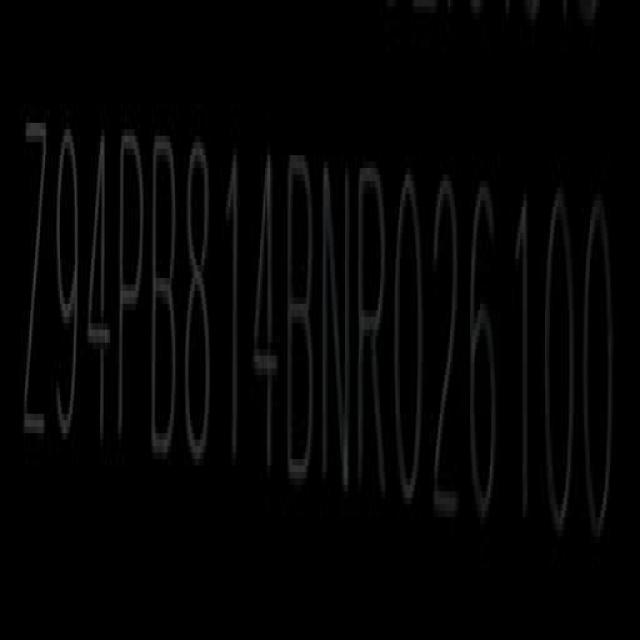0: (582, 196, 618, 544), (392, 169, 428, 517), (542, 190, 575, 548)
1: (512, 184, 534, 537), (226, 142, 243, 478)
2: (431, 167, 463, 527)
4: (253, 148, 282, 481), (87, 126, 115, 454)
6: (466, 176, 498, 530)
8: (187, 138, 215, 468)
9: (51, 117, 80, 454)
B: (286, 152, 320, 488), (150, 128, 181, 464)
N: (321, 154, 354, 495)
P: (116, 127, 146, 460)
R: (356, 158, 390, 508)
Z: (18, 113, 48, 456)
